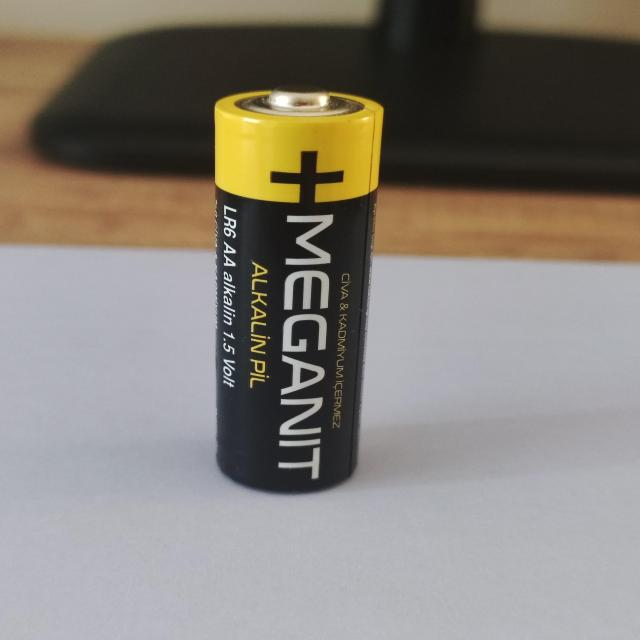AA: (213, 85, 384, 493)
